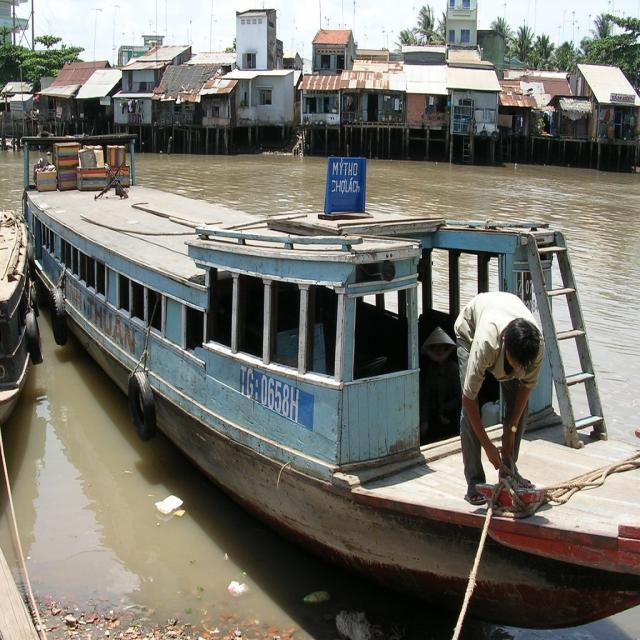boat: (13, 132, 640, 617)
